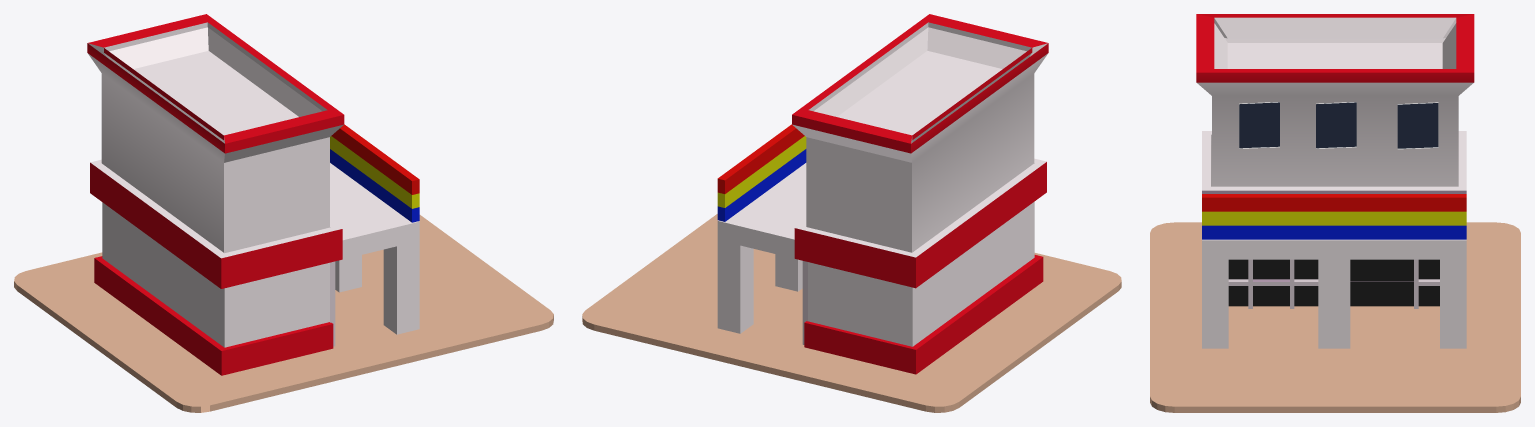
The model's file is supermiau.fbx.
The picture shows the model from 3 angles, left to right: view 1: azimuth 30°, elevation 25°; view 2: azimuth 150°, elevation 25°; view 3: azimuth 270°, elevation 25°; orthographic projection.
Parts seen in each view (by area): view 1: Cube.030; view 2: Cube.030; view 3: Cube.030.
Boxes of the visible parts, box(x1,y1,x2,y2) form: Cube.030: box(14, 14, 553, 412); Cube.030: box(582, 14, 1121, 412); Cube.030: box(1150, 14, 1520, 412).
Size of the model in its own units: 73.63 by 45.45 by 62.64.
